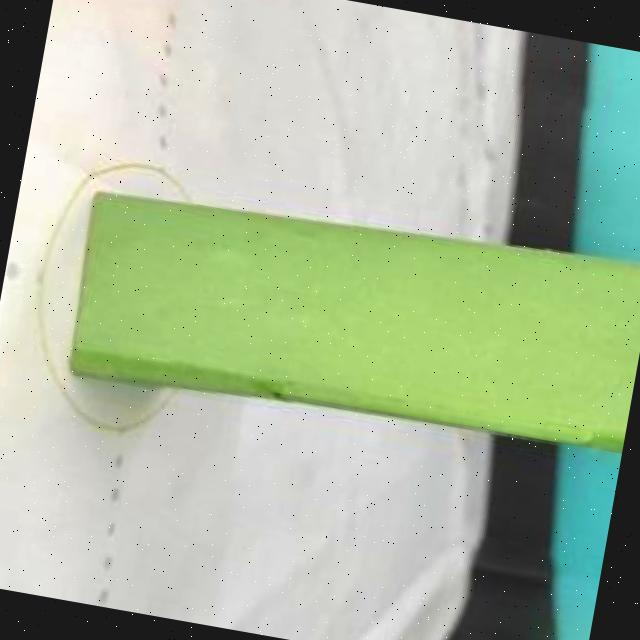greenbox: (52, 163, 640, 470)
